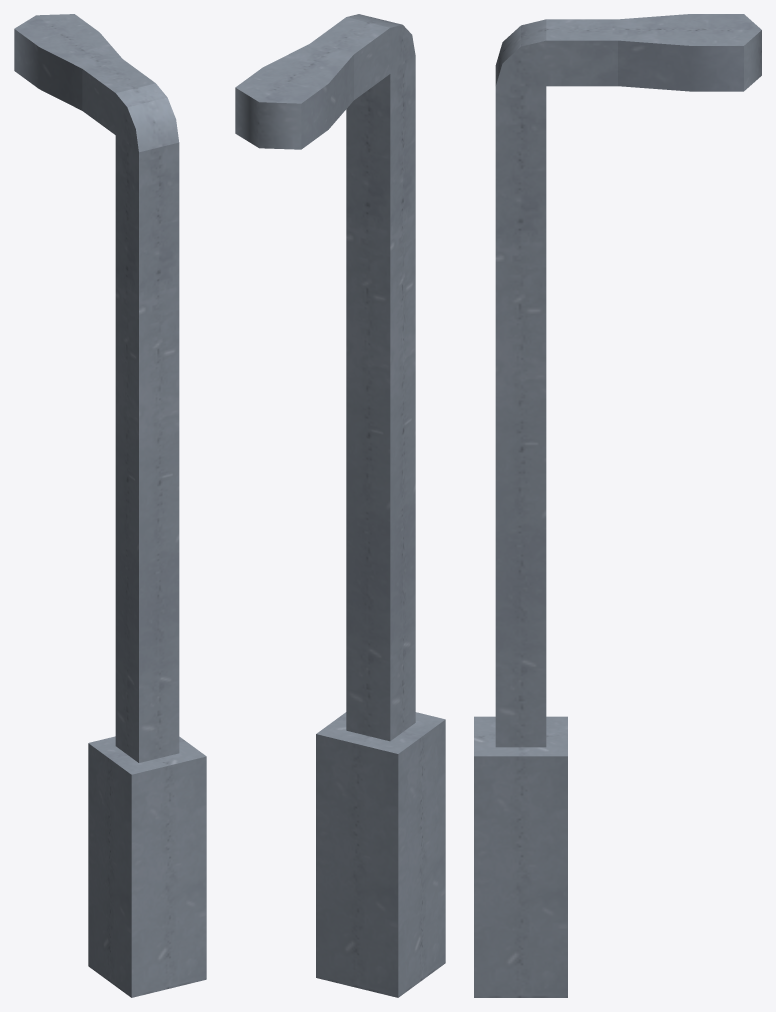
The model's file is lamp.obj.
The picture shows the model from 3 angles, left to right: view 1: azimuth 30°, elevation 25°; view 2: azimuth 150°, elevation 25°; view 3: azimuth 270°, elevation 25°; orthographic projection. The views are drawn at different scales.
Visible parts, largest first — view 1: mergedBlocks; view 2: mergedBlocks; view 3: mergedBlocks.
Boxes of the visible parts, x1,y1,x2,y2 form: mergedBlocks: (14,14,206,997); mergedBlocks: (235,14,445,997); mergedBlocks: (474,14,761,997).
Size of the model in its own units: 0.0862 by 0.96 by 0.2642.
Materials: 1 (1 with a texture image).
